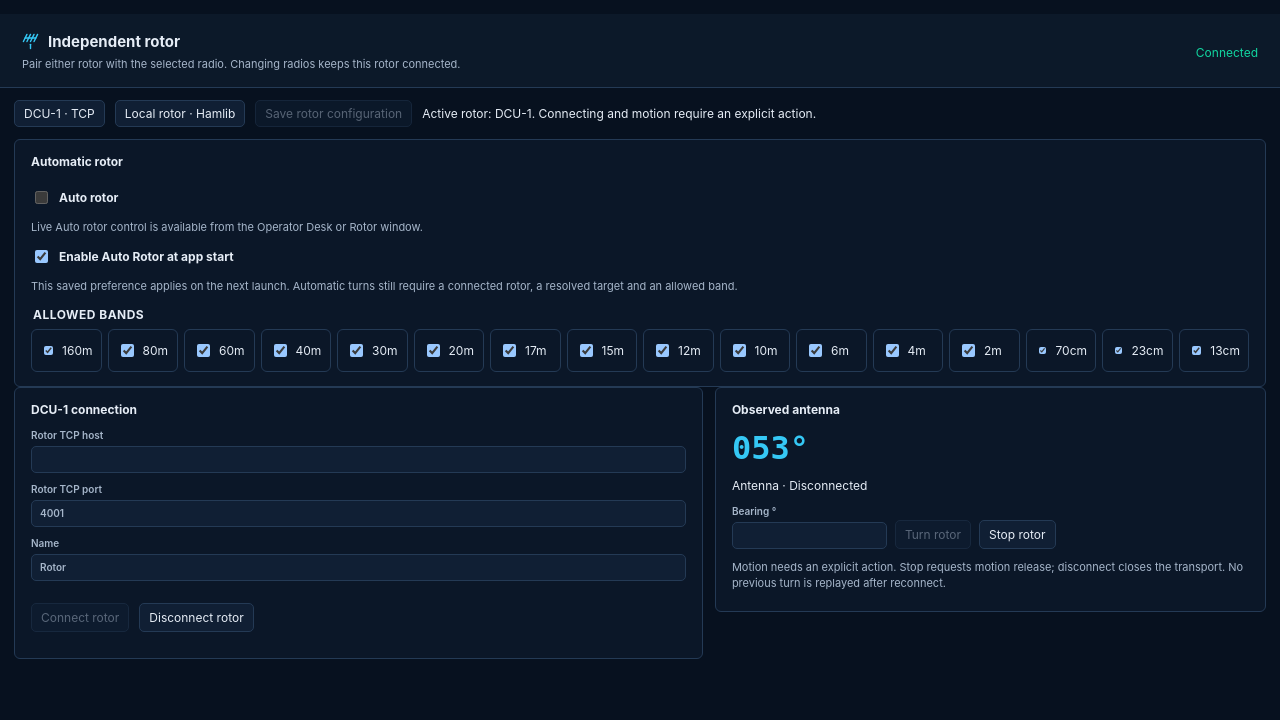
independent rotor panel › keeps a newer Stop failure when an older lost Goto receipt resolves
This screenshot has width=1280, height=720.
Type "90" into the number field named "Rotor bearing degrees" at [809, 535], box [732,522,887,549]
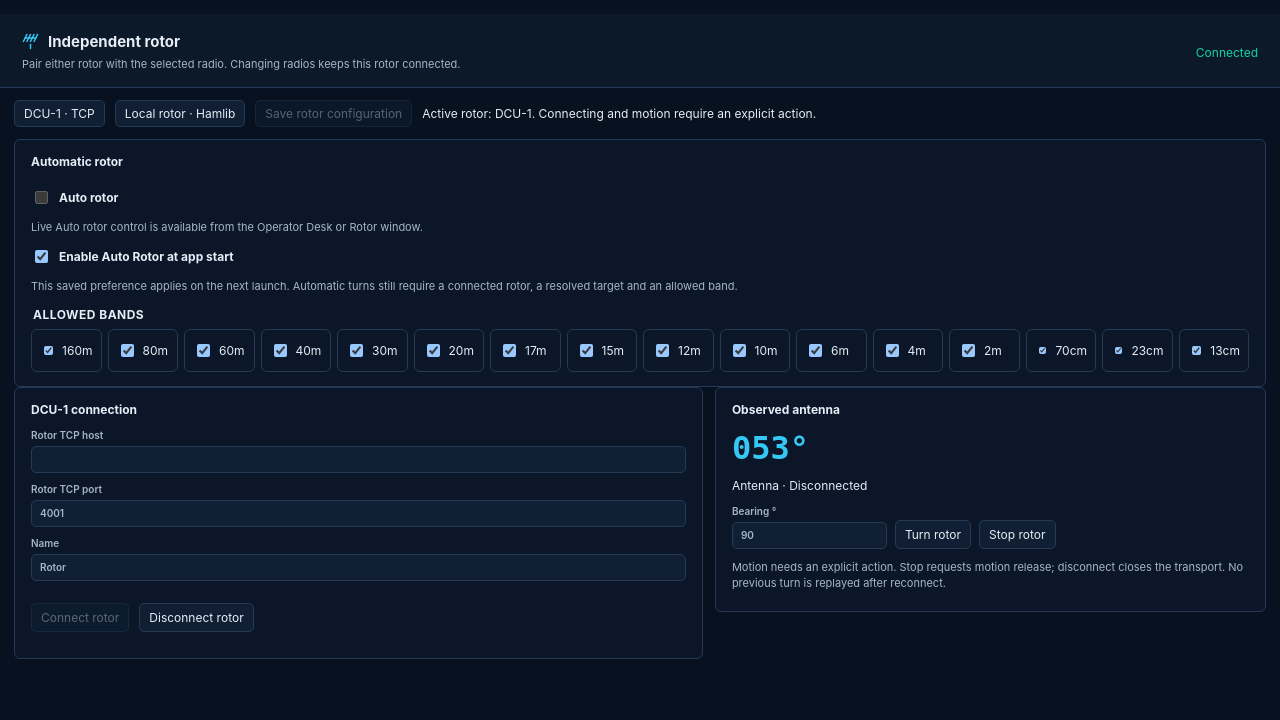
Click the button "Turn rotor" at [933, 534], box [895,520,971,549]
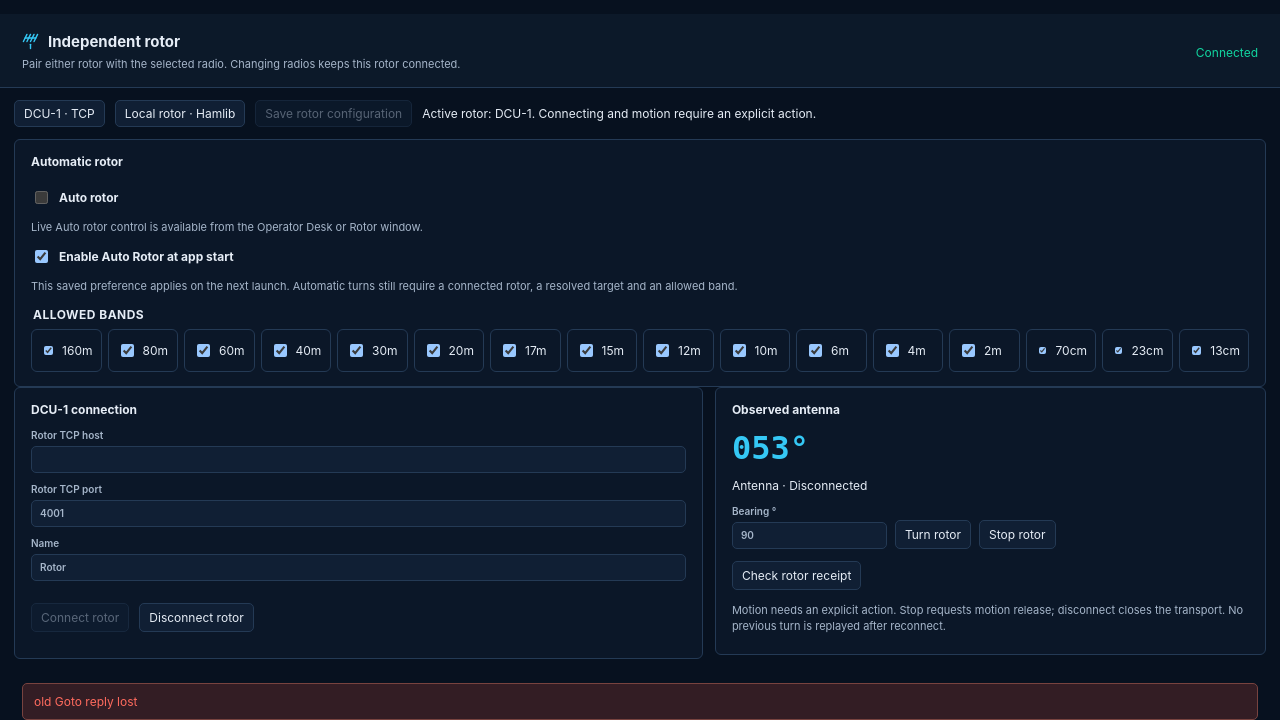
Check: the message reads "old Goto reply lost", box [34,694,138,708]
Click the button "Stop rotor" at [1017, 534], box [979,520,1056,549]
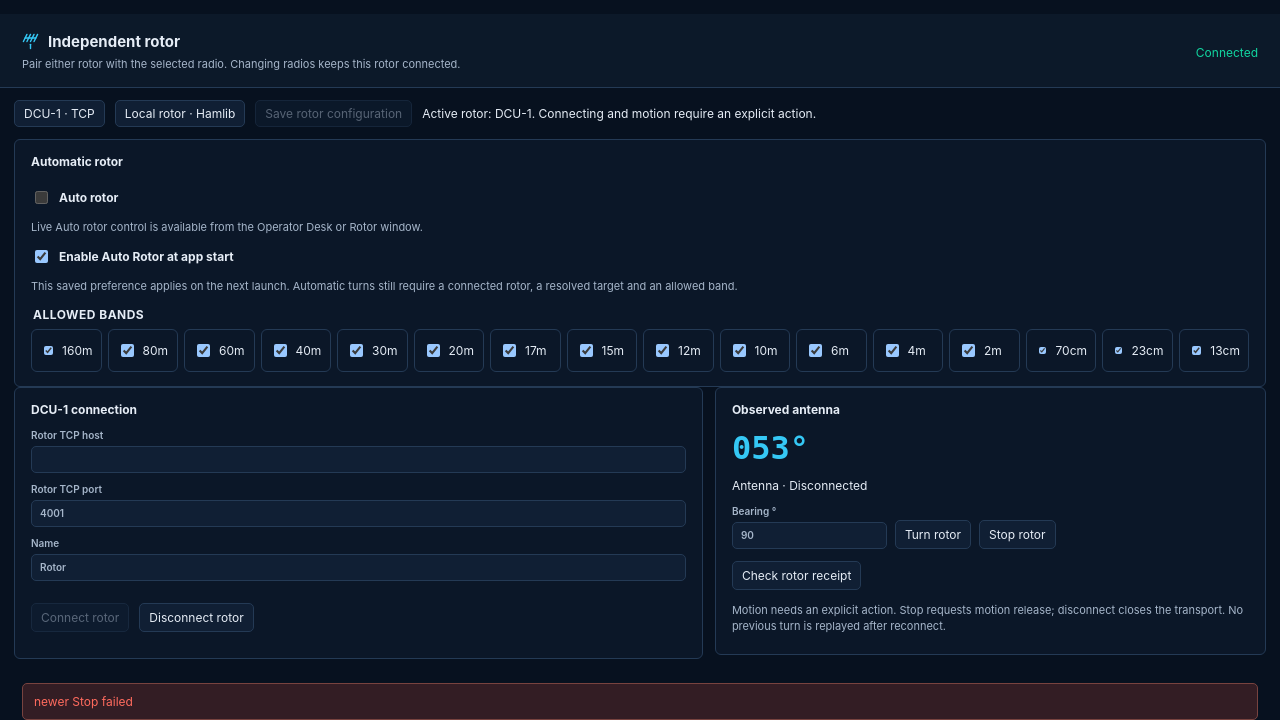
Check: the message reads "newer Stop failed", box [34,694,133,708]
Click the button "Check rotor receipt" at [797, 575], box [732,561,861,590]
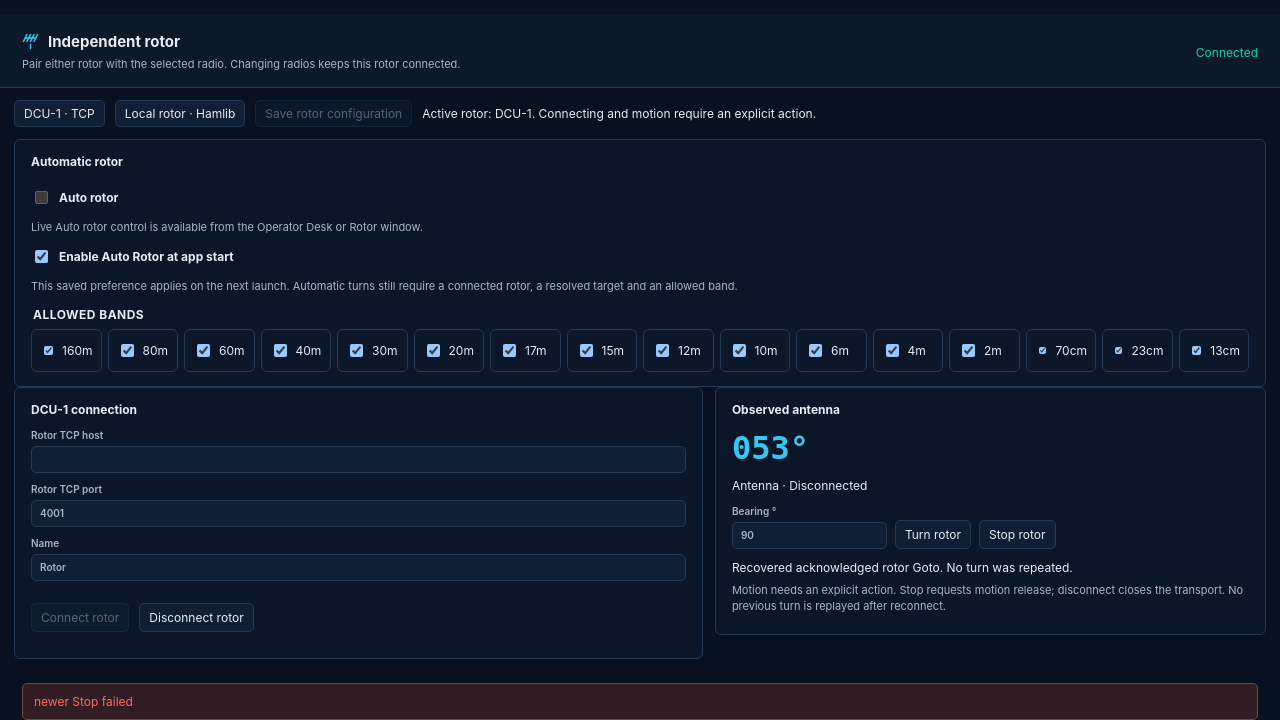
Check: the message "newer Stop failed" is shown, box [22,682,1258,719]
Check: the button "Check rotor receipt" is gone
